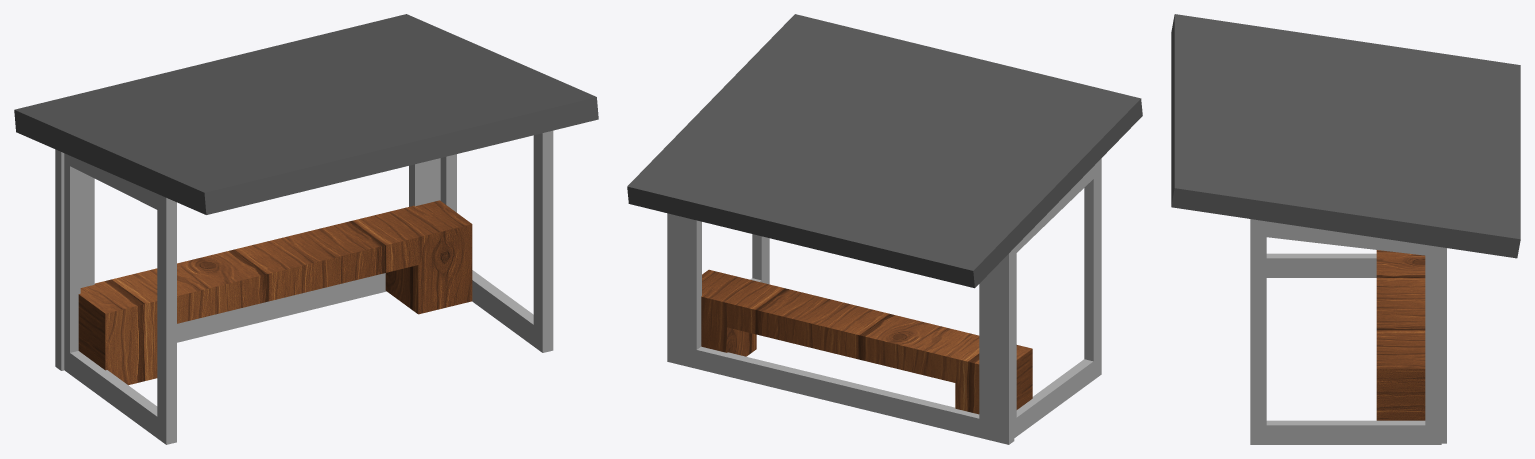
Rendered from paradaAutobus.obj.
The picture shows the model from 3 angles, left to right: view 1: azimuth 30°, elevation 25°; view 2: azimuth 150°, elevation 25°; view 3: azimuth 270°, elevation 25°; orthographic projection. The views are drawn at different scales.
Visible parts, largest first — view 1: polySurface8; view 2: polySurface8; view 3: polySurface8.
Part boxes in pixels (bbox=[...]): polySurface8: bbox=[14, 14, 598, 444]; polySurface8: bbox=[627, 14, 1142, 444]; polySurface8: bbox=[1171, 14, 1520, 444].
Size of the model in its own units: 4.98 by 3.44 by 4.23.
Materials: 2 (2 with a texture image).
